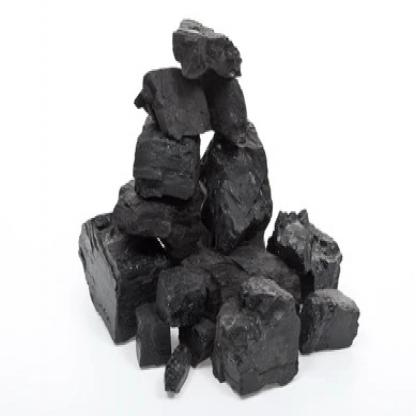Sedimentary_coal: (78, 198, 180, 334), (209, 271, 298, 403), (270, 198, 348, 309), (130, 54, 222, 148)
